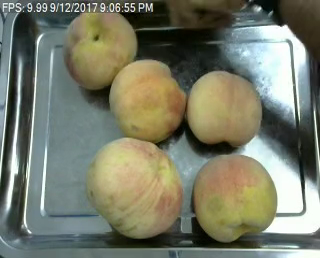Peach: (85, 135, 181, 239), (192, 154, 278, 242), (108, 59, 188, 143), (62, 6, 139, 90), (187, 70, 263, 146)
